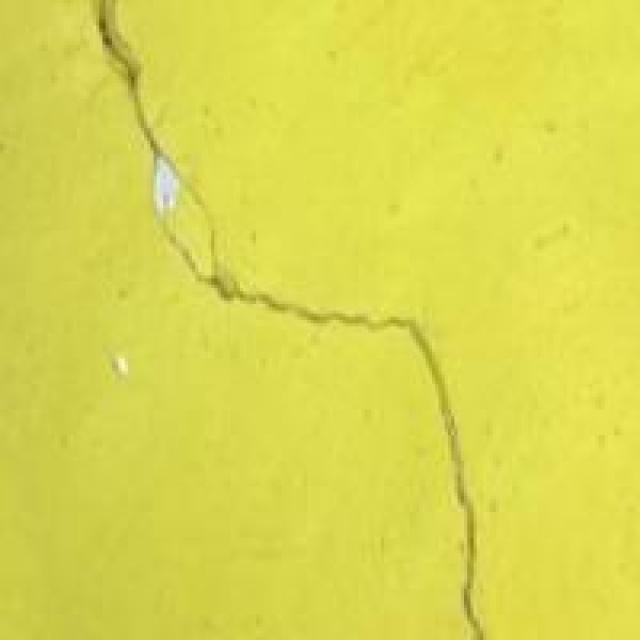Crack: (87, 0, 503, 637)
